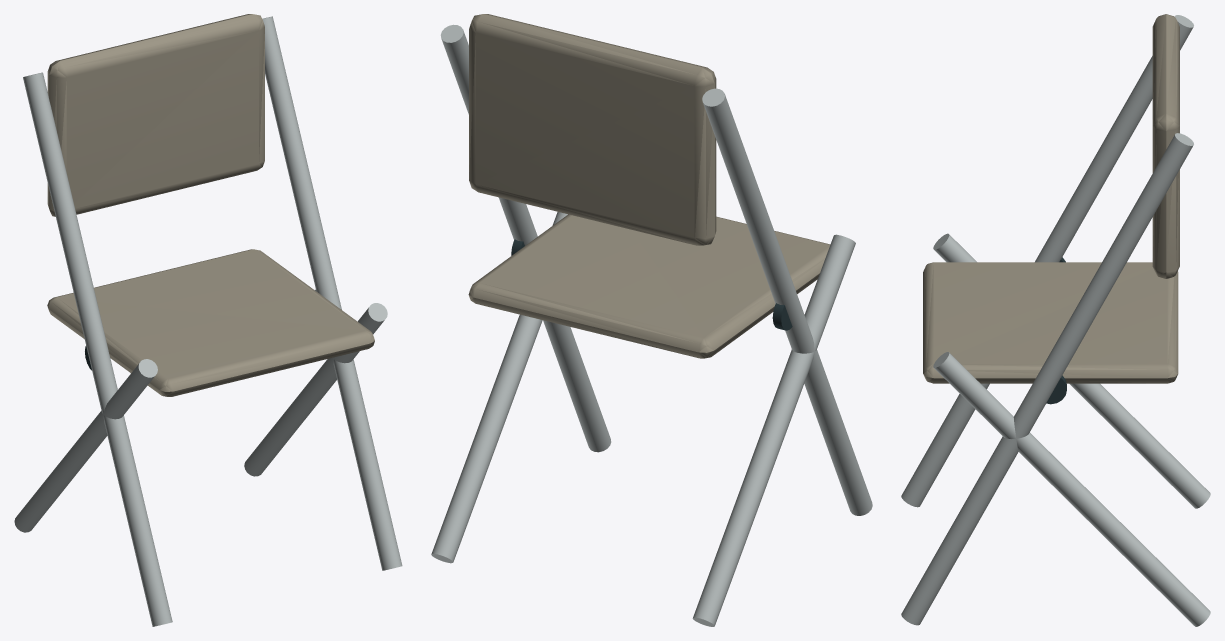
File: 11_starter_chair_right.glb
3 renders of one model, left to right at view 1: azimuth 30°, elevation 25°; view 2: azimuth 150°, elevation 25°; view 3: azimuth 270°, elevation 25°, orthographic. The views are drawn at different scales.
Parts seen in each view (by area): view 1: 11_starter_chair_right__Static; view 2: 11_starter_chair_right__Static; view 3: 11_starter_chair_right__Static.
Boxes of the visible parts, x1=… form: 11_starter_chair_right__Static: x1=14, y1=14, x2=402, y2=626; 11_starter_chair_right__Static: x1=431, y1=14, x2=872, y2=626; 11_starter_chair_right__Static: x1=901, y1=14, x2=1210, y2=626.
Size of the model in its own units: 0.496 by 0.9122 by 0.5093.
